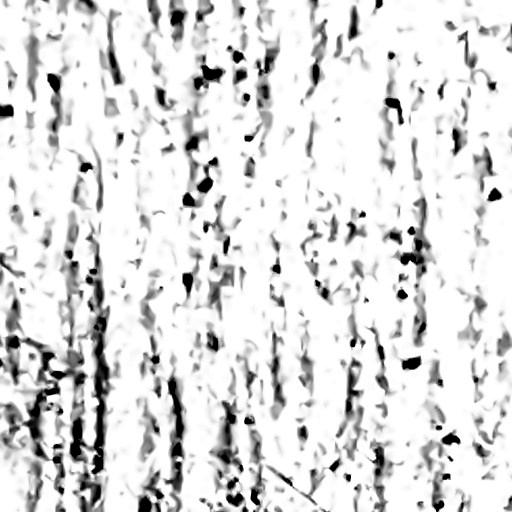egg: (386, 98, 403, 124), (71, 418, 80, 457), (203, 65, 221, 79), (198, 177, 212, 192), (182, 273, 192, 294), (47, 73, 59, 90), (442, 432, 459, 443), (487, 188, 501, 201), (138, 497, 151, 511), (402, 357, 420, 367), (0, 104, 13, 117), (171, 10, 183, 24), (233, 51, 243, 62), (251, 490, 258, 504)
